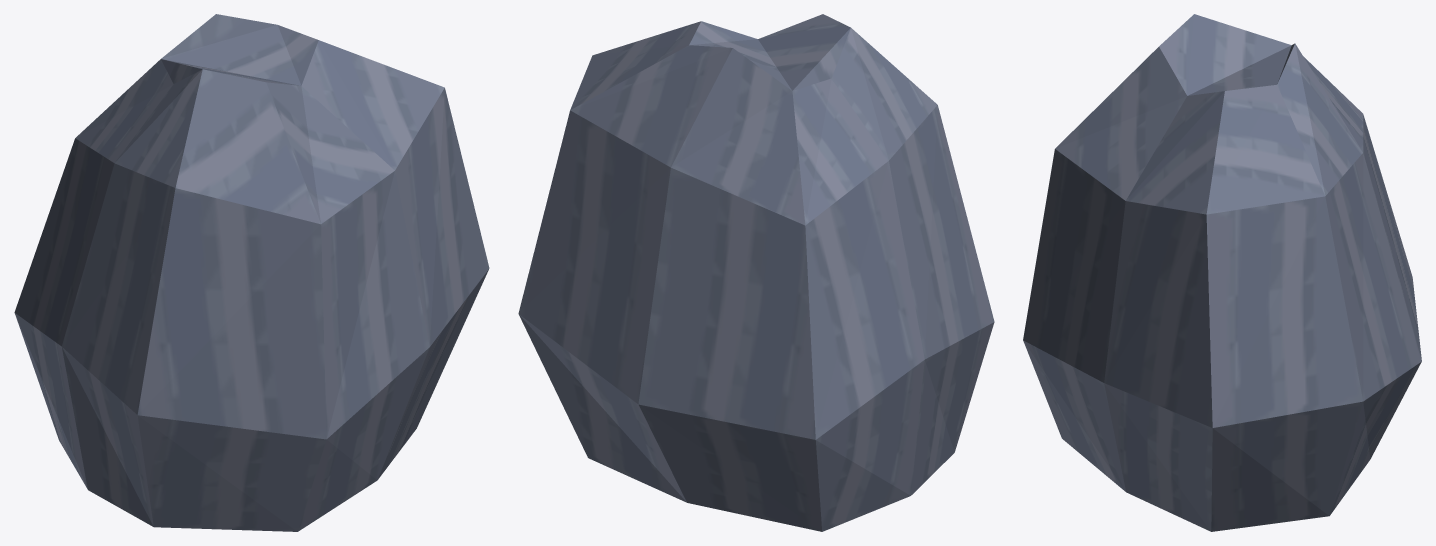
Rendered from coastal_rock.glb.
3 views of the same model, side by side, from view 1: azimuth 30°, elevation 25°; view 2: azimuth 150°, elevation 25°; view 3: azimuth 270°, elevation 25° (orthographic). The views are drawn at different scales.
Parts seen in each view (by area): view 1: beach_coastal_rock; view 2: beach_coastal_rock; view 3: beach_coastal_rock.
Boxes of the visible parts, x1,y1,x2,y2 form: beach_coastal_rock: (14, 14, 489, 531); beach_coastal_rock: (518, 14, 994, 531); beach_coastal_rock: (1023, 14, 1421, 531).
Size of the model in its own units: 1.2 by 1.2 by 1.05.
1 material, 1 textured.
